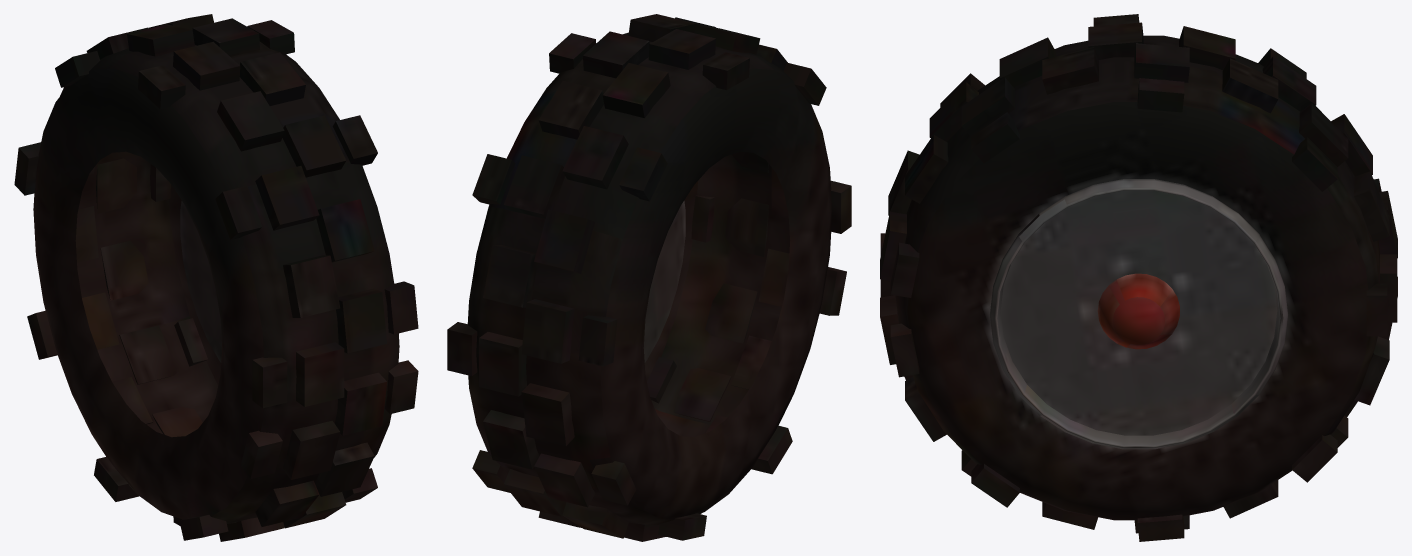
File: trike_wheel_rear.glb
The picture shows the model from 3 angles, left to right: view 1: azimuth 30°, elevation 25°; view 2: azimuth 150°, elevation 25°; view 3: azimuth 270°, elevation 25°; orthographic projection.
Visible parts, largest first — view 1: trike_wheel_rear; view 2: trike_wheel_rear; view 3: trike_wheel_rear.
Part boxes in pixels (bbox=[...]): trike_wheel_rear: bbox=[14, 14, 418, 541]; trike_wheel_rear: bbox=[447, 14, 851, 541]; trike_wheel_rear: bbox=[880, 14, 1397, 541].
Bounding box in the file's own units: 0.2876 × 0.7668 × 0.7644.
1 material, 1 textured.
